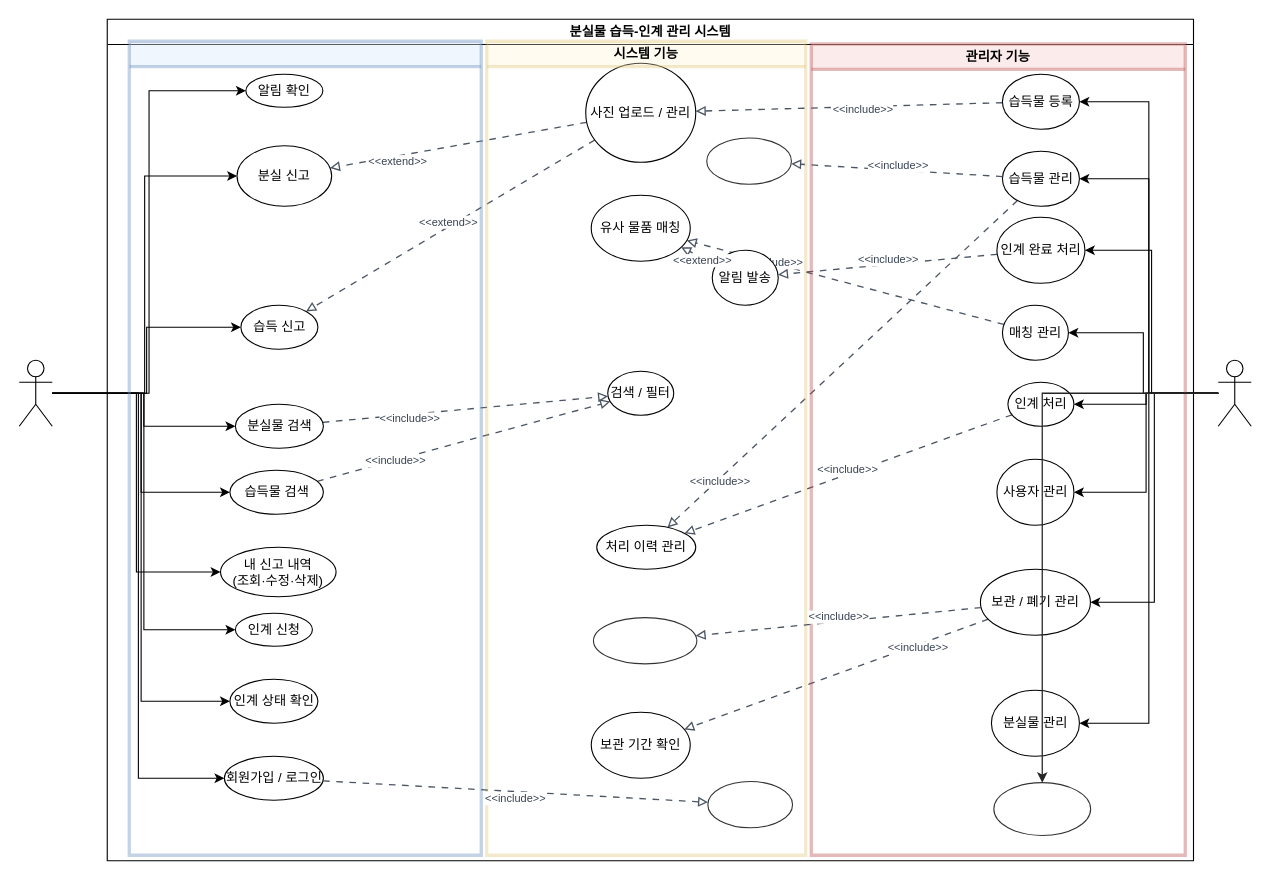
The diagram is 1273 pixels wide and 880 high, and some of its shapes have lost their labels. The shapes that lost their labels are listed below. From the top down, each one's centre as x and y in pixels, then its label:
point (748, 160): 권한 관리
point (35, 392): User
point (1234, 392): Admin
point (304, 447): 사용자 기능
point (644, 640): 상태 관리
point (750, 804): 인증 관리
point (1042, 808): 통계 조회
